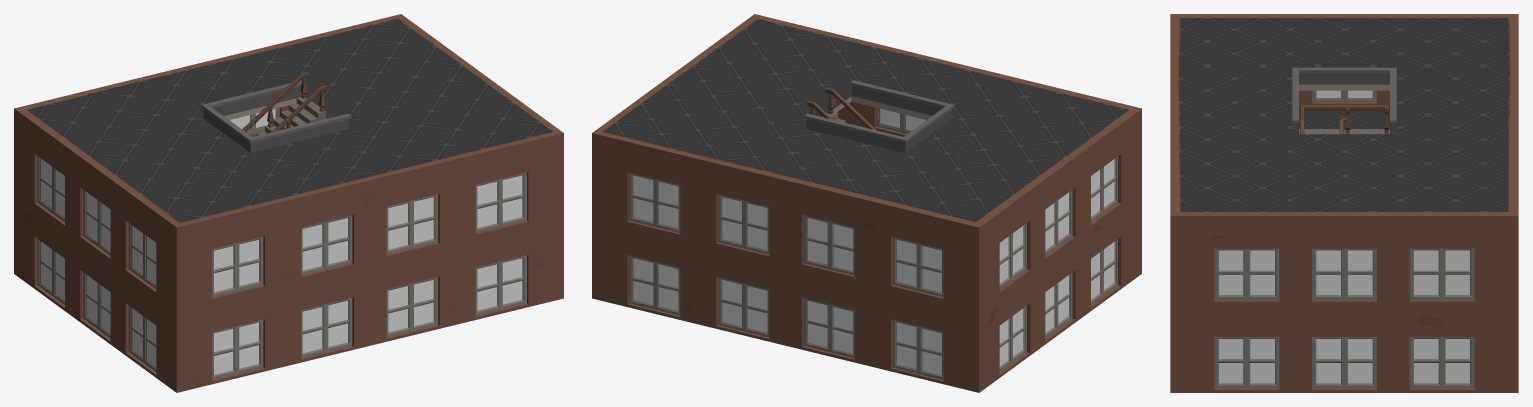
Rendered from SM_Bldg_City_High-Rise_06_Mid.fbx.
The picture shows the model from 3 angles, left to right: view 1: azimuth 30°, elevation 25°; view 2: azimuth 150°, elevation 25°; view 3: azimuth 270°, elevation 25°; orthographic projection. The views are drawn at different scales.
Parts seen in each view (by area): view 1: SM_Bldg_City_High-Rise_06_Mid, SM_Bldg_City_High-Rise_06_Mid_Glass; view 2: SM_Bldg_City_High-Rise_06_Mid, SM_Bldg_City_High-Rise_06_Mid_Glass; view 3: SM_Bldg_City_High-Rise_06_Mid, SM_Bldg_City_High-Rise_06_Mid_Glass.
Boxes of the visible parts, x1,y1,x2,y2 form: SM_Bldg_City_High-Rise_06_Mid: [14, 14, 563, 392]; SM_Bldg_City_High-Rise_06_Mid_Glass: [41, 109, 522, 374]; SM_Bldg_City_High-Rise_06_Mid: [592, 14, 1141, 392]; SM_Bldg_City_High-Rise_06_Mid_Glass: [633, 109, 1114, 374]; SM_Bldg_City_High-Rise_06_Mid: [1170, 14, 1518, 392]; SM_Bldg_City_High-Rise_06_Mid_Glass: [1219, 90, 1469, 383].
Size of the model in its own units: 1470 by 689 by 1070.
